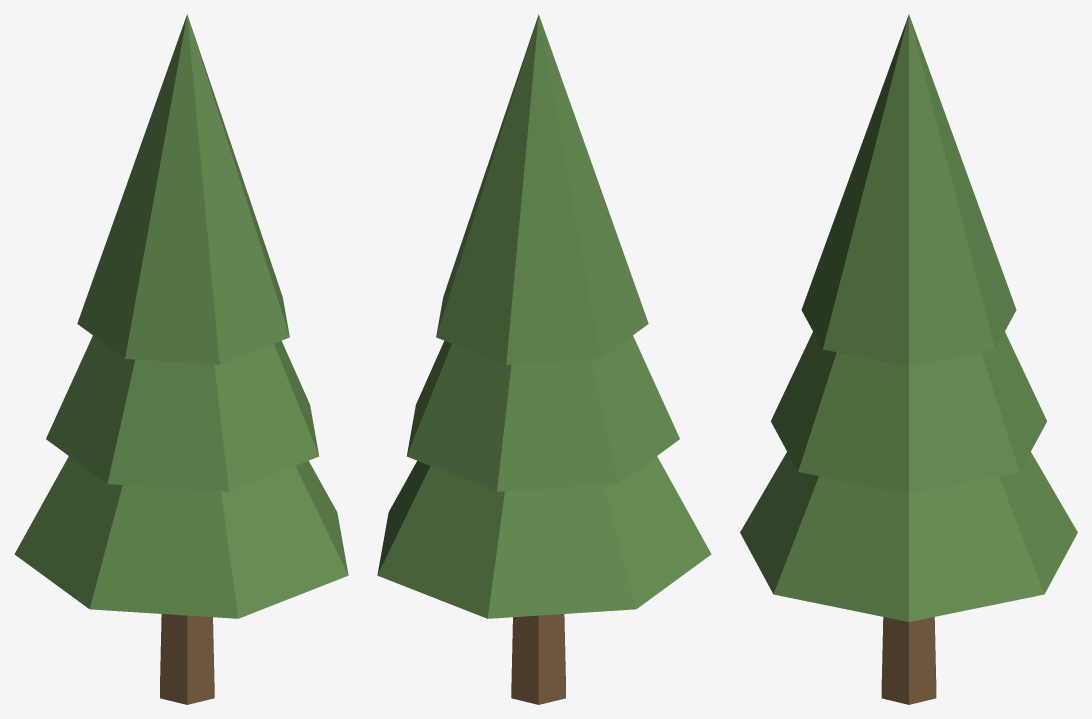
The model's file is tree_conifer_02.glb.
3 renders of one model, left to right at view 1: azimuth 30°, elevation 25°; view 2: azimuth 150°, elevation 25°; view 3: azimuth 270°, elevation 25°, orthographic.
Bounding box in the file's own units: 2.09 × 4.74 × 2.14.
